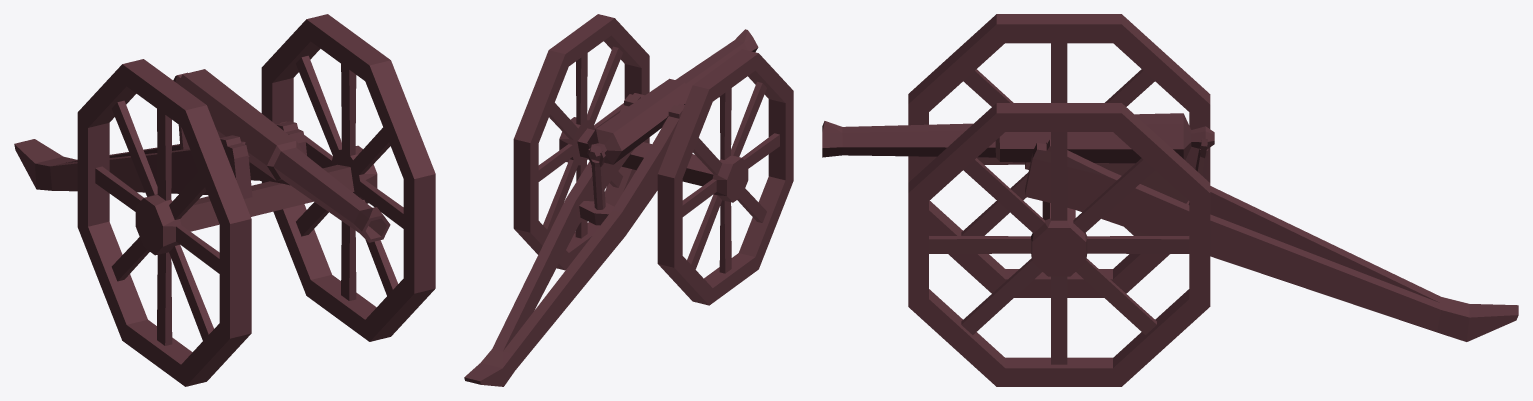
The model's file is cannon-pounder.fbx.
3 views of the same model, side by side, from view 1: azimuth 30°, elevation 25°; view 2: azimuth 150°, elevation 25°; view 3: azimuth 270°, elevation 25° (orthographic). The views are drawn at different scales.
Visible parts, largest first — view 1: cannon-pounder; view 2: cannon-pounder; view 3: cannon-pounder.
Part boxes in pixels (x1=…): cannon-pounder: x1=14, y1=14, x2=435, y2=386; cannon-pounder: x1=464, y1=14, x2=793, y2=386; cannon-pounder: x1=822, y1=14, x2=1518, y2=386.
Size of the model in its own units: 1.2 by 1.48 by 3.41.
